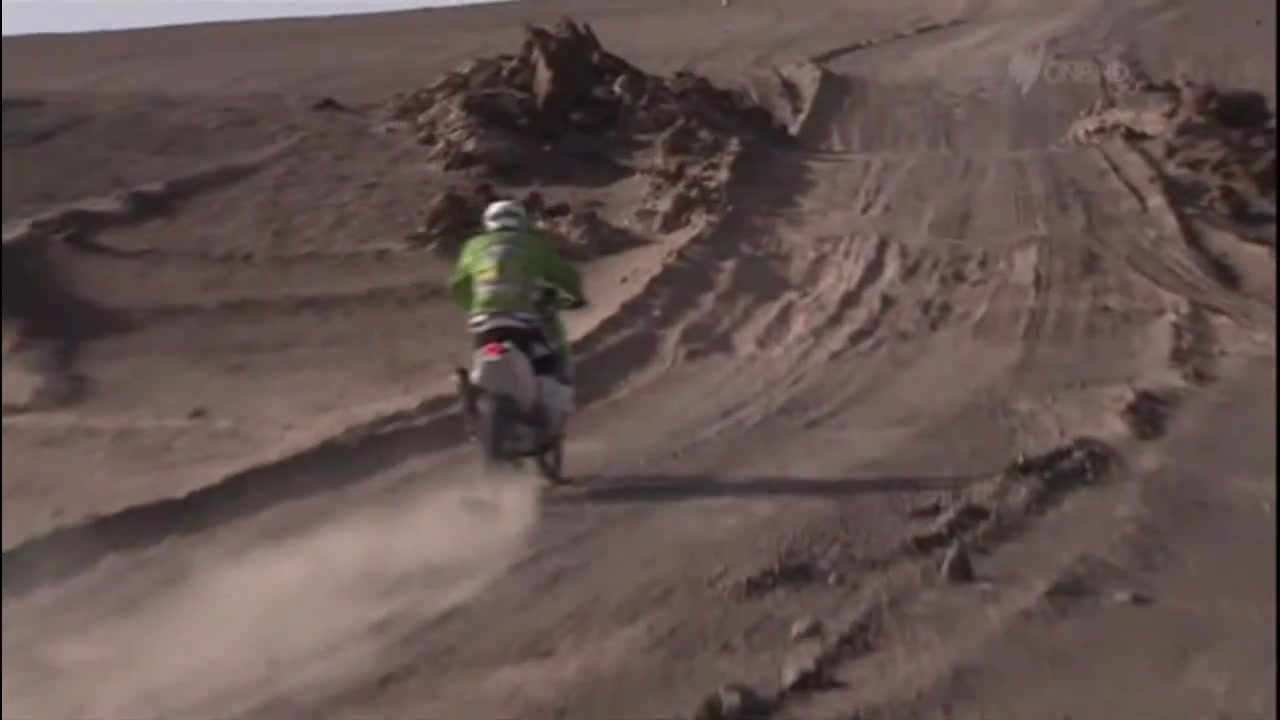motorbike: (437, 280, 572, 487)
